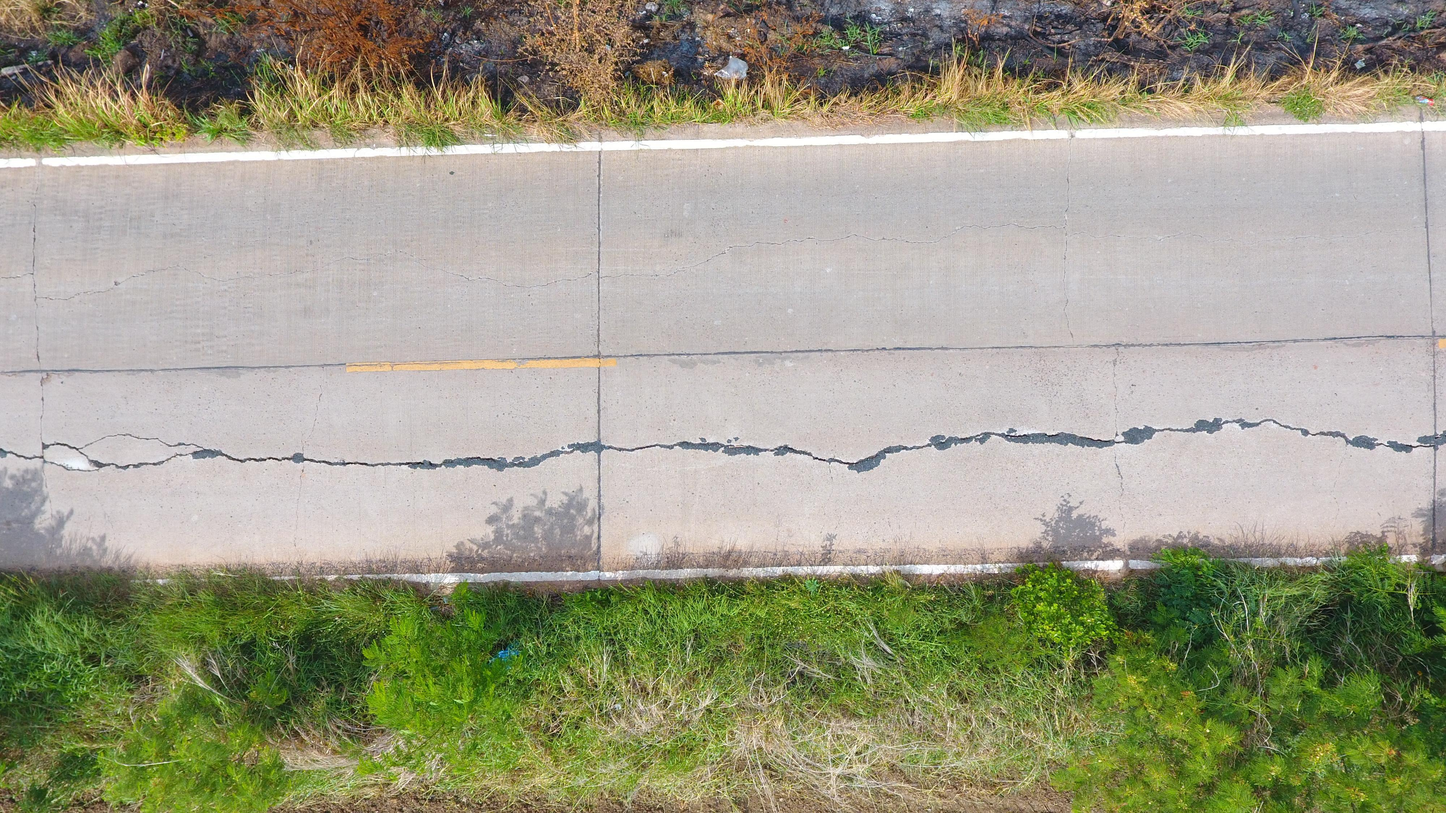GRIETA: (0, 417, 1446, 474), (920, 335, 1446, 351), (180, 253, 392, 282), (600, 243, 757, 279), (756, 223, 1010, 245), (38, 265, 178, 301), (420, 264, 597, 289), (599, 347, 920, 358), (317, 354, 597, 366), (1, 364, 317, 373), (1421, 131, 1435, 334), (1067, 231, 1256, 245), (43, 442, 103, 467), (117, 433, 204, 449), (1063, 236, 1074, 345), (1114, 446, 1126, 544), (32, 276, 41, 369), (1431, 447, 1439, 549), (598, 151, 602, 354), (1063, 139, 1072, 226), (302, 404, 318, 452), (1113, 347, 1120, 439), (78, 435, 117, 450), (1433, 344, 1437, 432), (40, 373, 44, 455), (598, 455, 601, 563), (1012, 223, 1065, 229), (32, 200, 36, 273), (597, 367, 601, 439), (398, 251, 427, 260), (0, 273, 33, 279), (298, 470, 304, 501), (295, 502, 299, 529)
